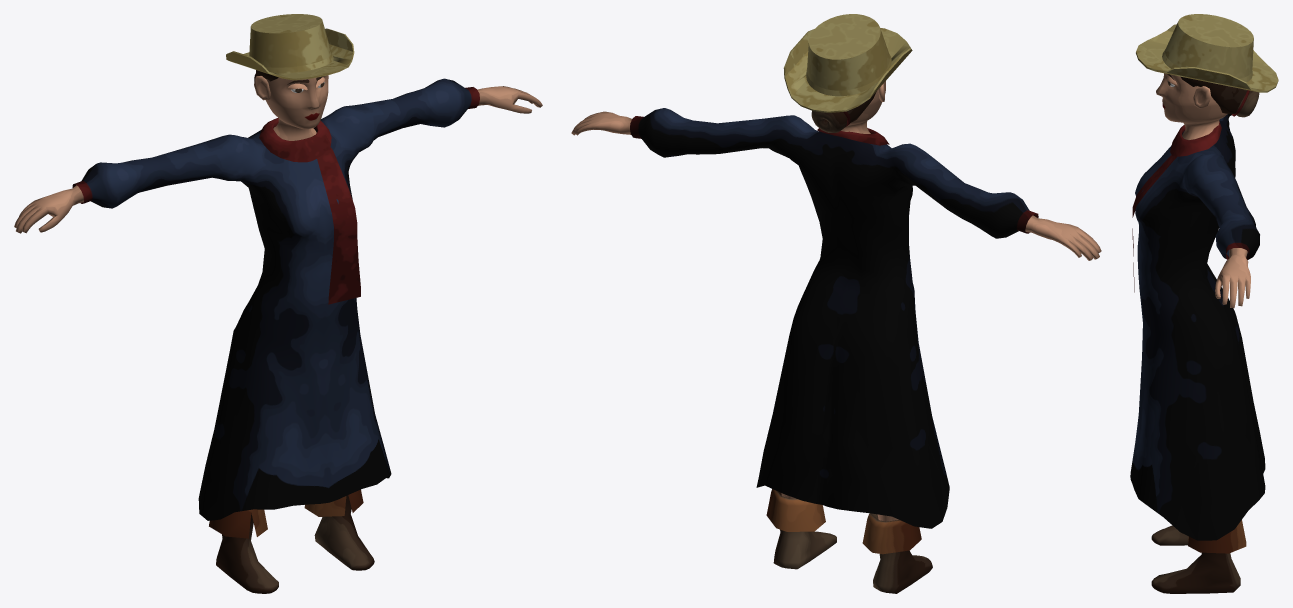
Rendered from SickWoman2.fbx.
3 views of the same model, side by side, from view 1: azimuth 30°, elevation 25°; view 2: azimuth 150°, elevation 25°; view 3: azimuth 270°, elevation 25° (orthographic).
Parts seen in each view (by area): view 1: SickWoman2; view 2: SickWoman2; view 3: SickWoman2.
Part boxes in pixels (x1,y1,x2,y2): SickWoman2: (14, 14, 542, 593); SickWoman2: (571, 14, 1101, 593); SickWoman2: (1130, 14, 1278, 593).
Bounding box in the file's own units: 213 × 211 × 52.32.
Materials: 1 (1 with a texture image).
